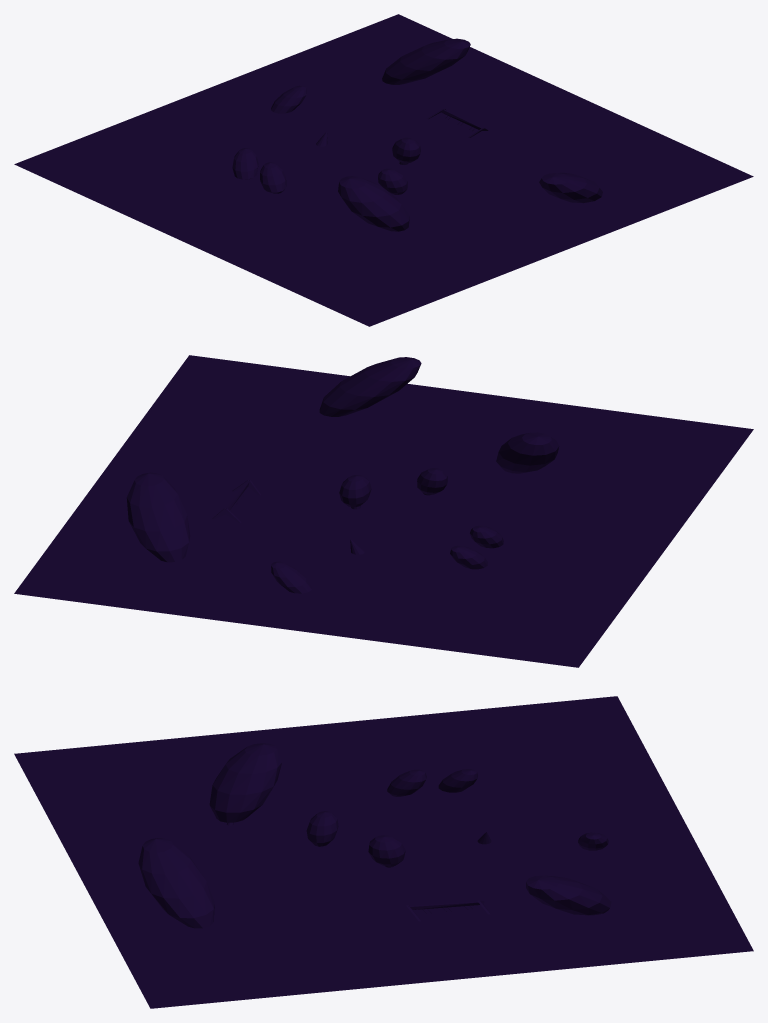
File: park_oozed.FBX
3 views of the same model, one above another, from view 1: azimuth 30°, elevation 25°; view 2: azimuth 150°, elevation 25°; view 3: azimuth 270°, elevation 25° (orthographic). The views are drawn at different scales.
Parts seen in each view (by area): view 1: Layer:street, Layer:bldgconcrete, Layer:greenery, Layer:0; view 2: Layer:street, Layer:greenery, Layer:bldgconcrete, Layer:0; view 3: Layer:street, Layer:greenery, Layer:bldgconcrete, Layer:0.
Part boxes in pixels (x1=…): Layer:street: x1=14, y1=14, x2=753, y2=326; Layer:bldgconcrete: x1=158, y1=31, x2=715, y2=310; Layer:greenery: x1=114, y1=38, x2=670, y2=271; Layer:0: x1=109, y1=52, x2=671, y2=288; Layer:street: x1=14, y1=355, x2=753, y2=667; Layer:greenery: x1=105, y1=357, x2=658, y2=627; Layer:bldgconcrete: x1=53, y1=371, x2=708, y2=651; Layer:0: x1=99, y1=390, x2=657, y2=608; Layer:street: x1=14, y1=696, x2=753, y2=1008; Layer:greenery: x1=99, y1=737, x2=660, y2=973; Layer:bldgconcrete: x1=51, y1=712, x2=714, y2=990; Layer:0: x1=100, y1=737, x2=659, y2=963.
Bounding box in the file's own units: 4854 × 427 × 4854.
